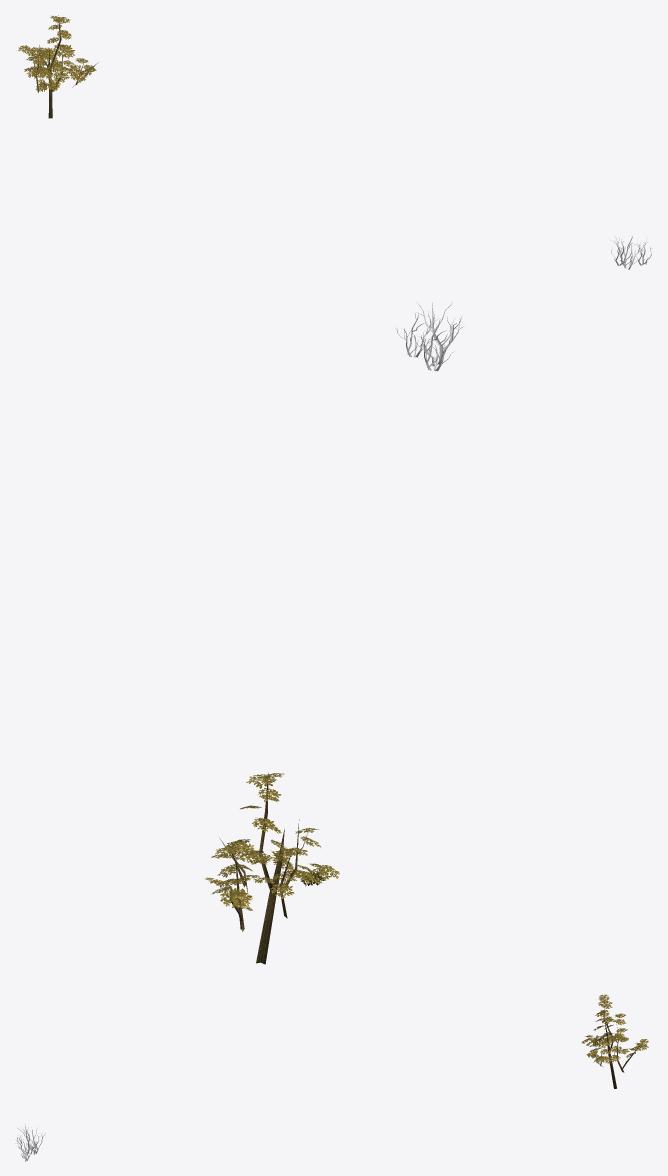
File: S_Tree_Yellow004_A.FBX
The picture shows the model from 3 angles, top to bottom: view 1: azimuth 30°, elevation 25°; view 2: azimuth 150°, elevation 25°; view 3: azimuth 270°, elevation 25°; orthographic projection. The views are drawn at different scales.
Parts seen in each view (by area): view 1: S_Tree_Yellow004_001, S_Tree_Yellow007_001; view 2: S_Tree_Yellow004_001, S_Tree_Yellow007_001; view 3: S_Tree_Yellow004_001, S_Tree_Yellow007_001.
Part boxes in pixels (left/top/right/bottom): S_Tree_Yellow004_001: left=18, top=15, right=98, bottom=118; S_Tree_Yellow007_001: left=611, top=236, right=652, bottom=269; S_Tree_Yellow004_001: left=205, top=772, right=339, bottom=964; S_Tree_Yellow007_001: left=395, top=301, right=465, bottom=371; S_Tree_Yellow004_001: left=581, top=994, right=648, bottom=1088; S_Tree_Yellow007_001: left=15, top=1126, right=45, bottom=1161.
Size of the model in its own units: 3622 by 7884 by 1264.
